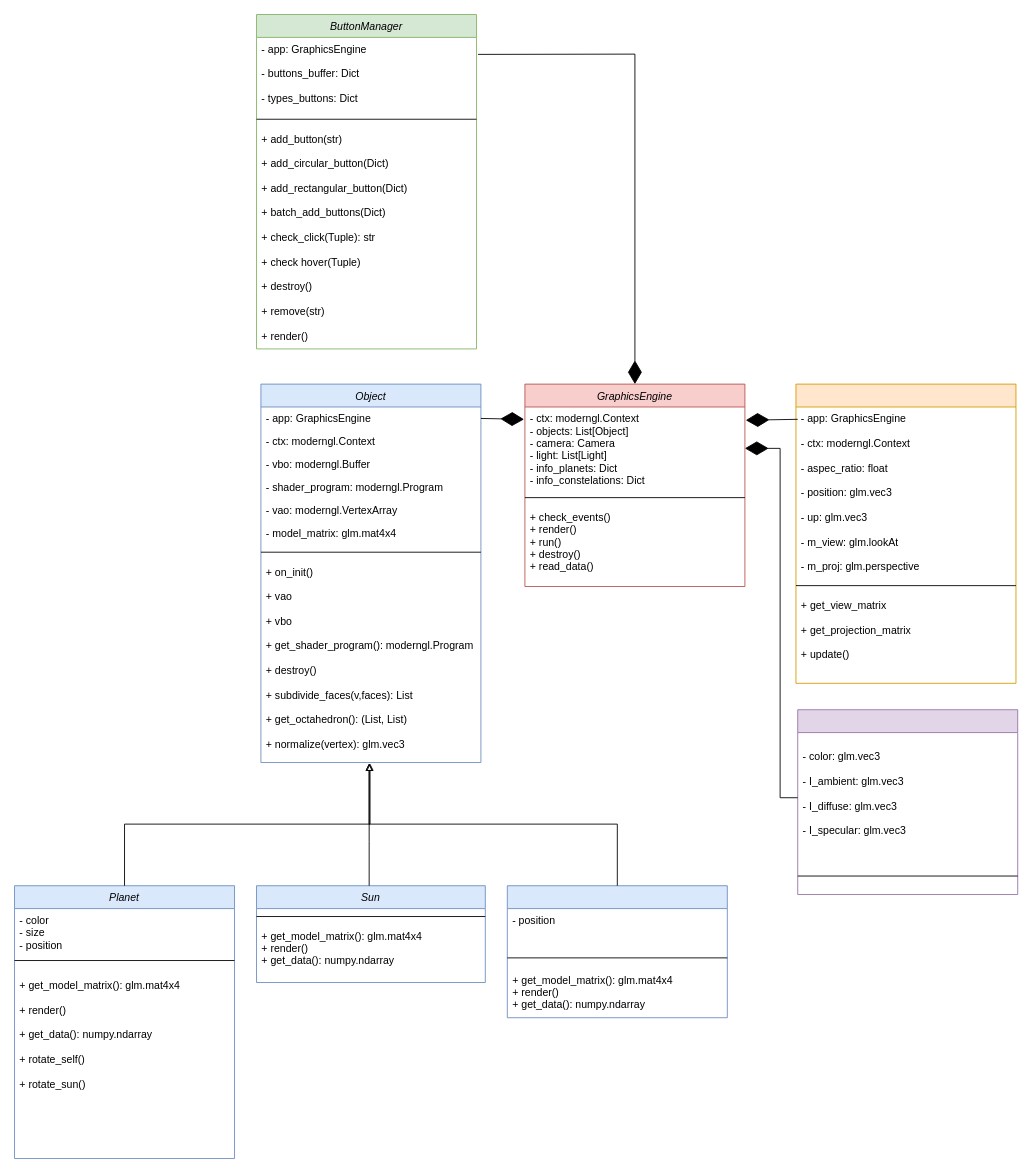
The diagram is 1032 pixels wide and 1173 high, and some of its shapes have lost their labels. Here are the shapes that lost their labels. From the top down, the box of each, then its label:
(795, 383, 1016, 683): Camera
(797, 709, 1018, 895): Light
(506, 885, 727, 1018): Star
